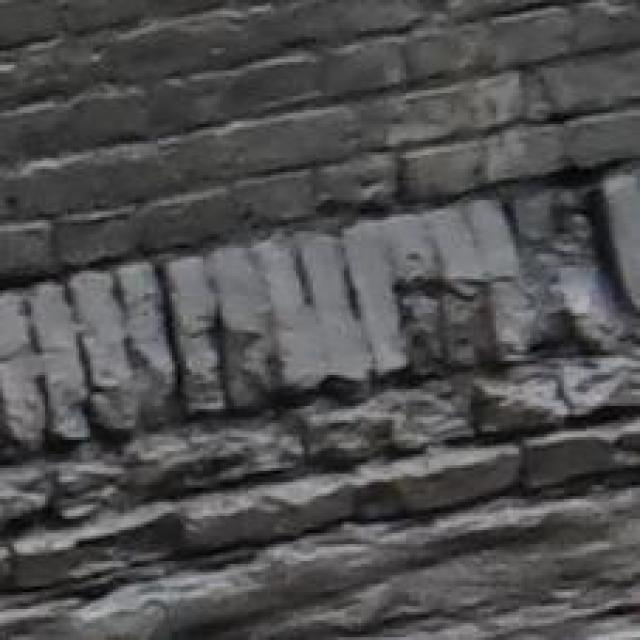Crack: (5, 341, 632, 566)
